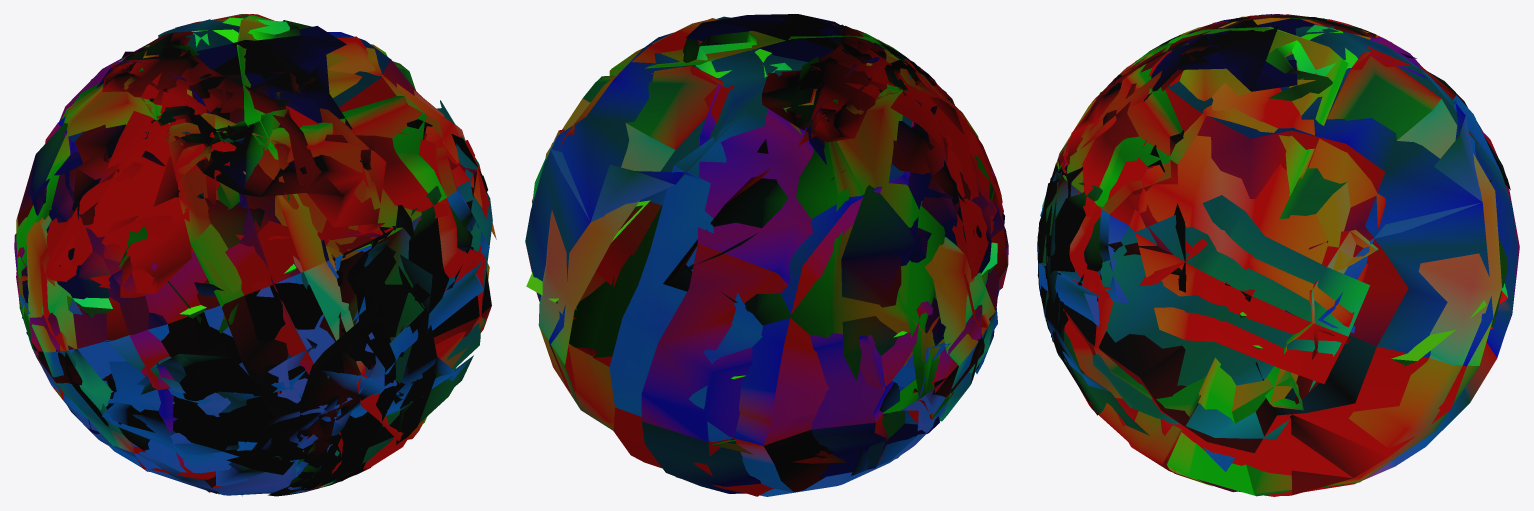
The model's file is Actor1_Face.fbx.
3 renders of one model, left to right at view 1: azimuth 30°, elevation 25°; view 2: azimuth 150°, elevation 25°; view 3: azimuth 270°, elevation 25°, orthographic.
Parts seen in each view (by area): view 1: Actor1_Face; view 2: Actor1_Face; view 3: Actor1_Face.
Part boxes in pixels (box(x1,y1,x2,y2)): Actor1_Face: box(14, 14, 496, 496); Actor1_Face: box(525, 14, 1008, 496); Actor1_Face: box(1037, 14, 1519, 496).
Bounding box in the file's own units: 2 × 2 × 2.
